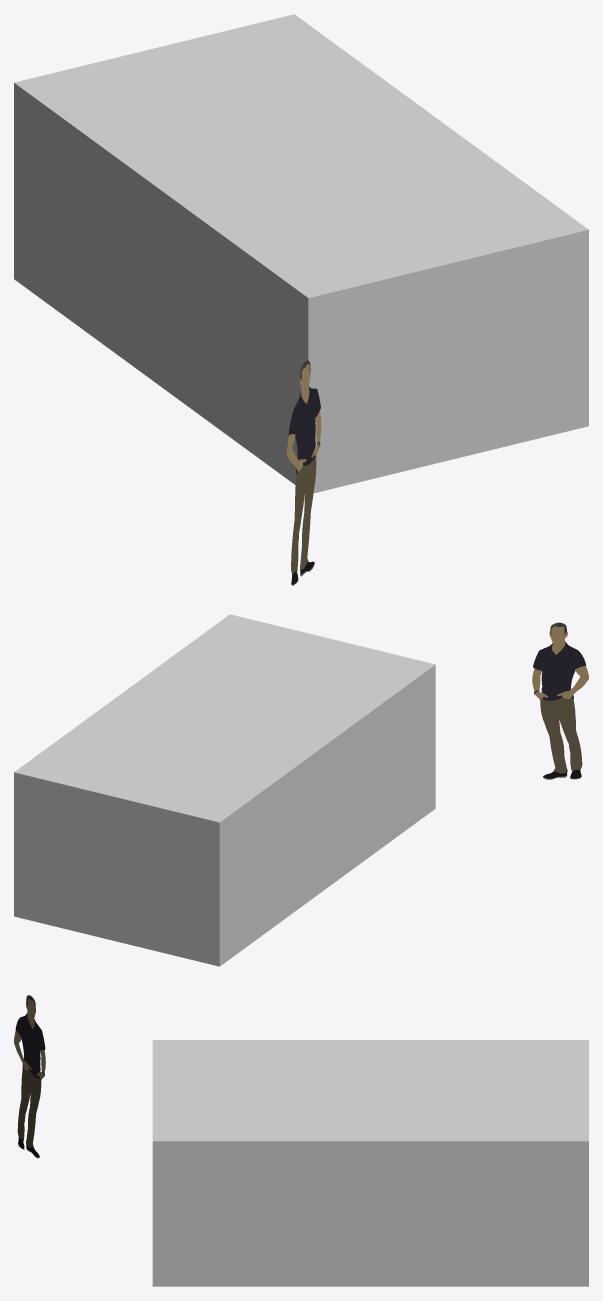
The picture shows the model from 3 angles, top to bottom: view 1: azimuth 30°, elevation 25°; view 2: azimuth 150°, elevation 25°; view 3: azimuth 270°, elevation 25°; orthographic projection. The views are drawn at different scales.
Parts seen in each view (by area): view 1: SketchUp, Chris (×2); view 2: SketchUp, Chris (×2); view 3: SketchUp, Chris (×2).
Part boxes in pixels (left/top/right/bottom): SketchUp: left=14, top=14, right=588, bottom=493; Chris (×2): left=288, top=386, right=320, bottom=574; SketchUp: left=14, top=614, right=435, bottom=966; Chris (×2): left=533, top=641, right=585, bottom=773; SketchUp: left=152, top=1040, right=588, bottom=1286; Chris (×2): left=15, top=1013, right=45, bottom=1147.
Bounding box in the file's own units: 134 × 228 × 69.5.
